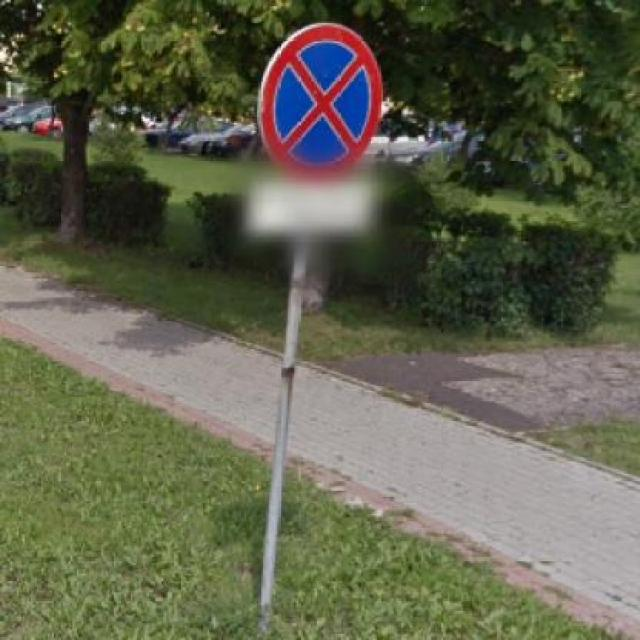Zakaz zatrzymywania sie: (253, 20, 385, 188)
